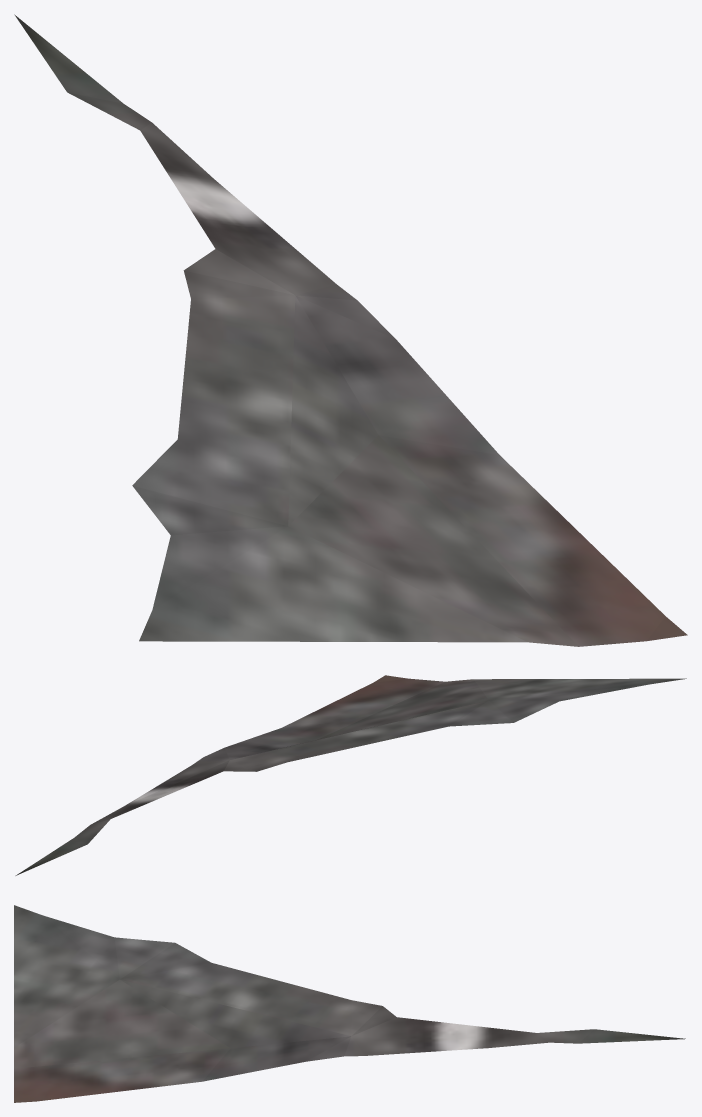
3 renders of one model, top to bottom at view 1: azimuth 30°, elevation 25°; view 2: azimuth 150°, elevation 25°; view 3: azimuth 270°, elevation 25°, orthographic. The views are drawn at different scales.
Bounding box in the file's own units: 0.3105 × 0.0691 × 0.6601.
1 material, 1 textured.
